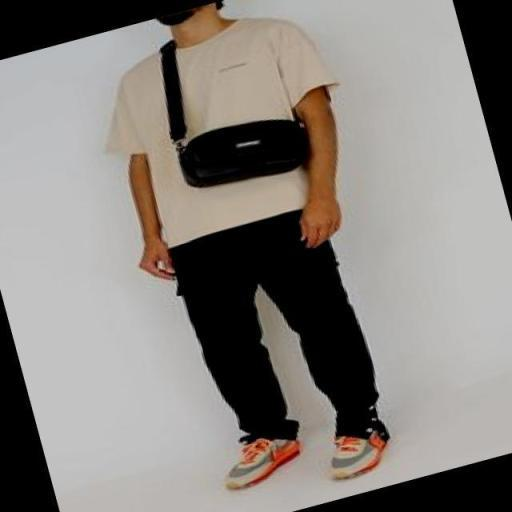bag: (172, 110, 314, 190)
